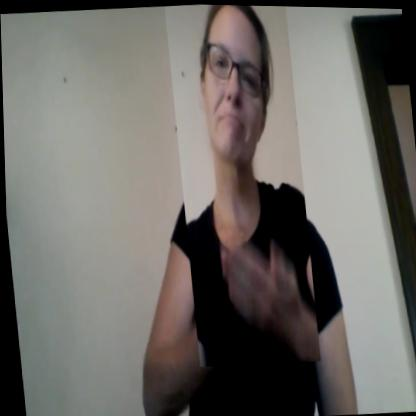ThankYou: (164, 3, 318, 367)
